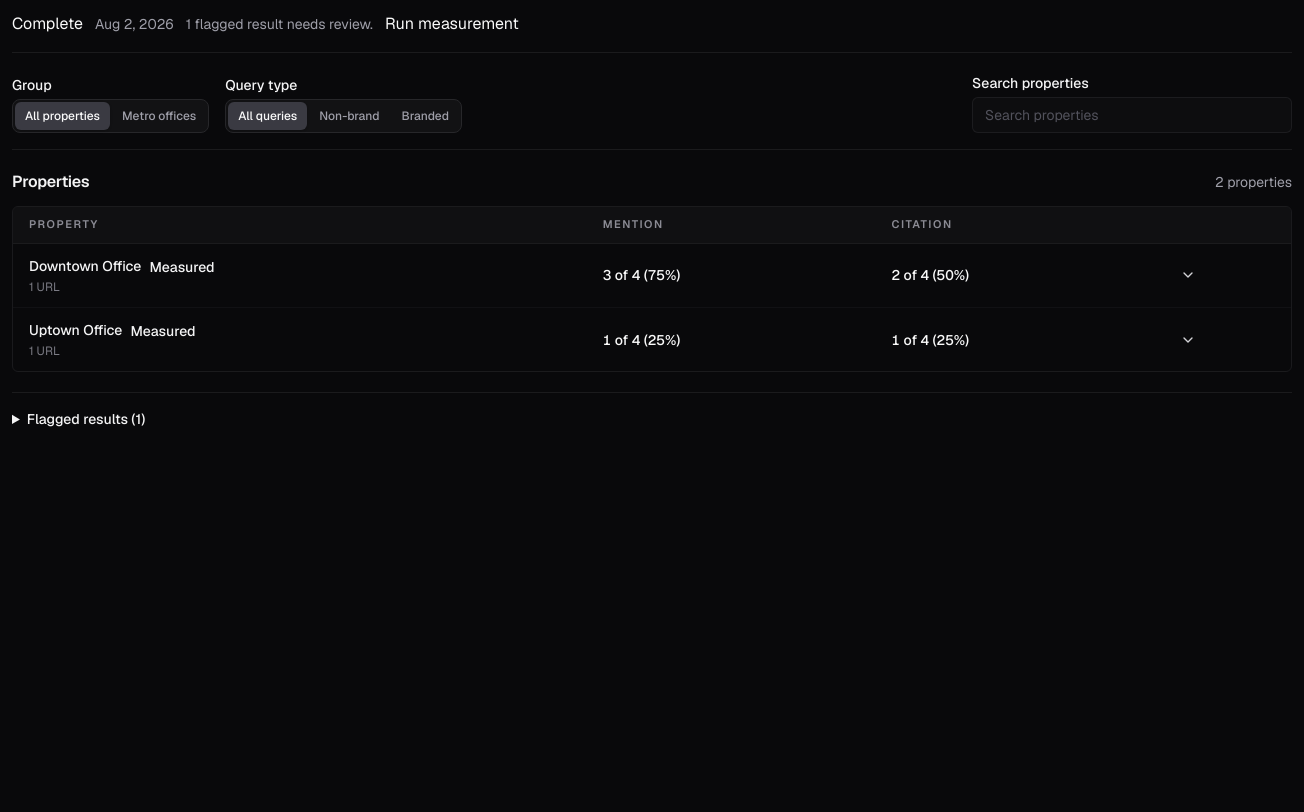
Scenario: AdvancedMeasurementOverview › shows competitor share of voice only for a selected non-brand group
The image size is (1304, 812).
Expected: the text "Query type" is shown, left=225, top=76, right=297, bottom=94
Expected: the text "Brand share of voice" is not shown
Click the radio button labelled "Metro offices": (159, 116) left=112, top=102, right=206, bottom=130
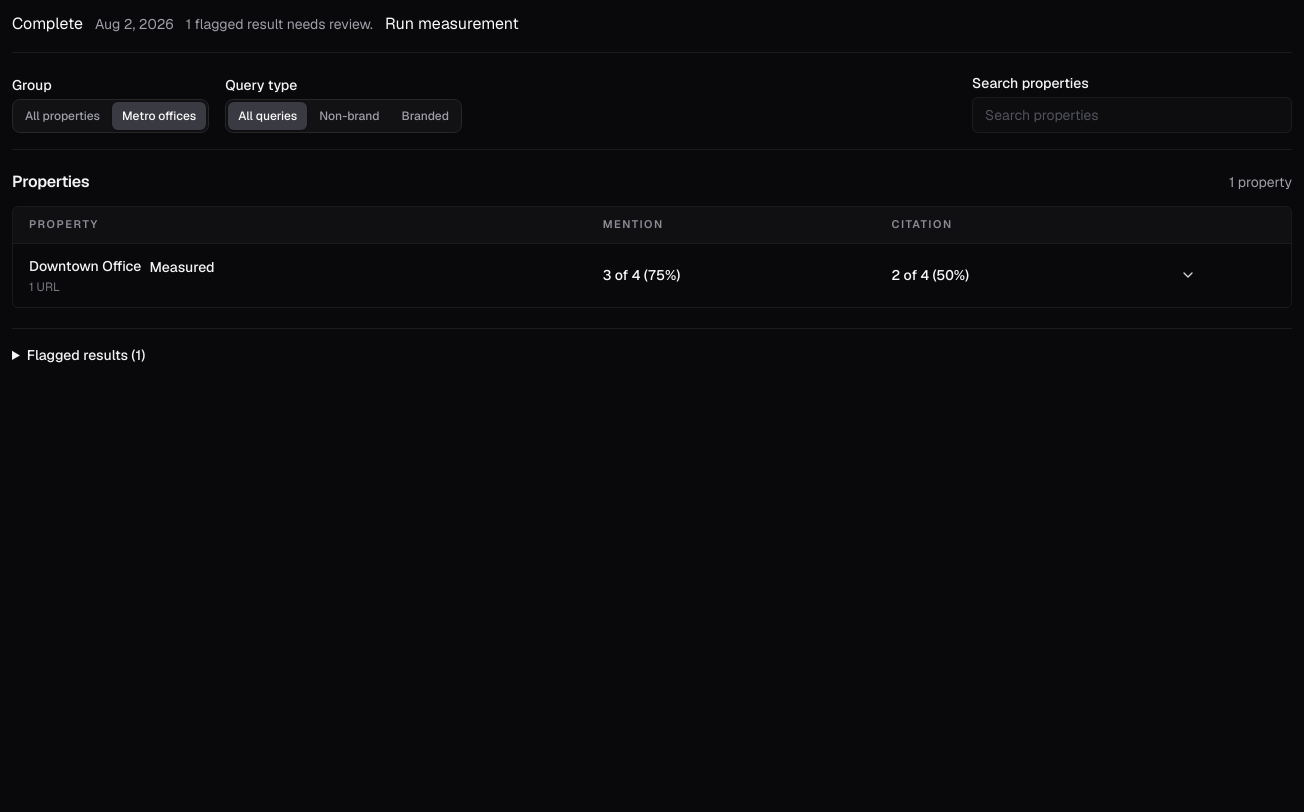
Expected: the text "Brand share of voice" is not shown
Click the radio button labelled "Non-brand": (349, 116) left=309, top=102, right=390, bottom=130
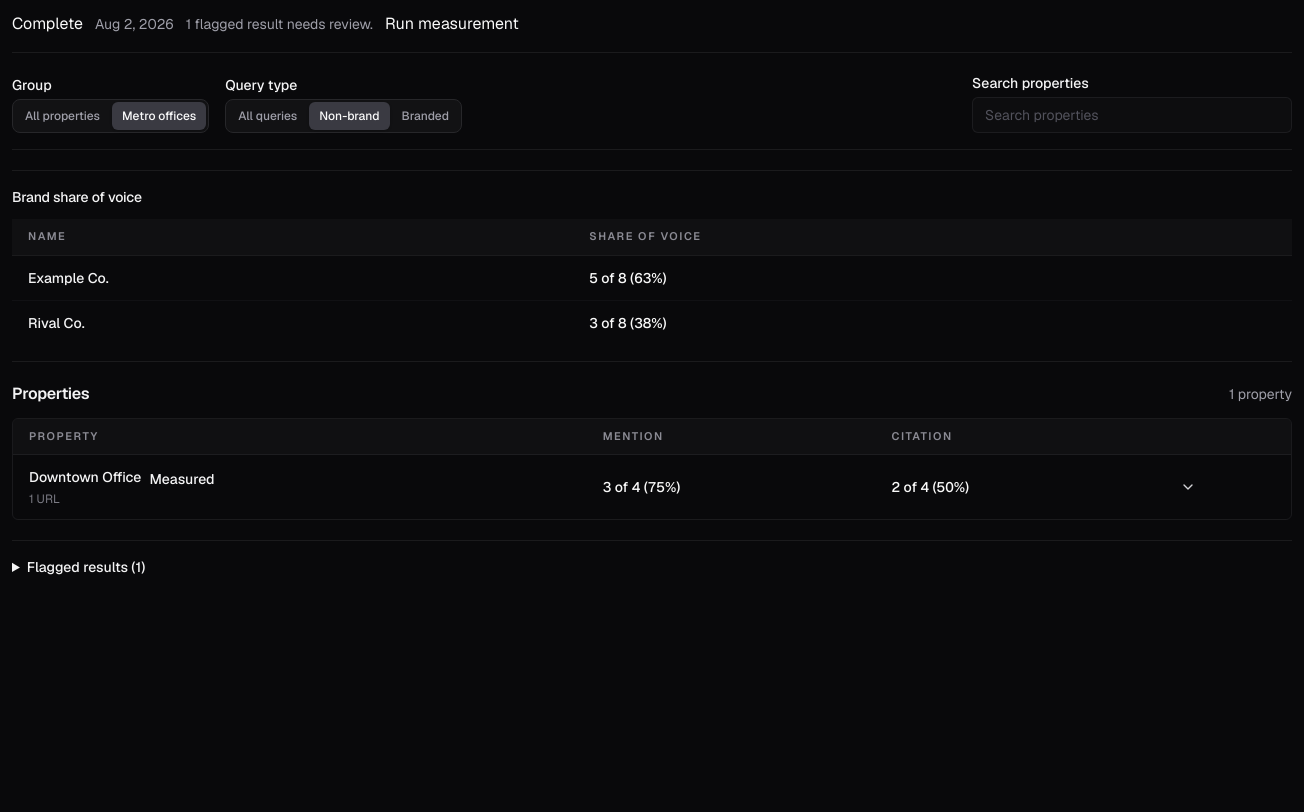
Expected: the heading "Brand share of voice" is shown, left=12, top=188, right=142, bottom=206
Expected: the text "Example Co." is shown, left=12, top=255, right=573, bottom=300
Expected: the text "Rival Co." is shown, left=12, top=300, right=573, bottom=345
Click the radio button labelled "Branded": (425, 116) left=392, top=102, right=459, bottom=130
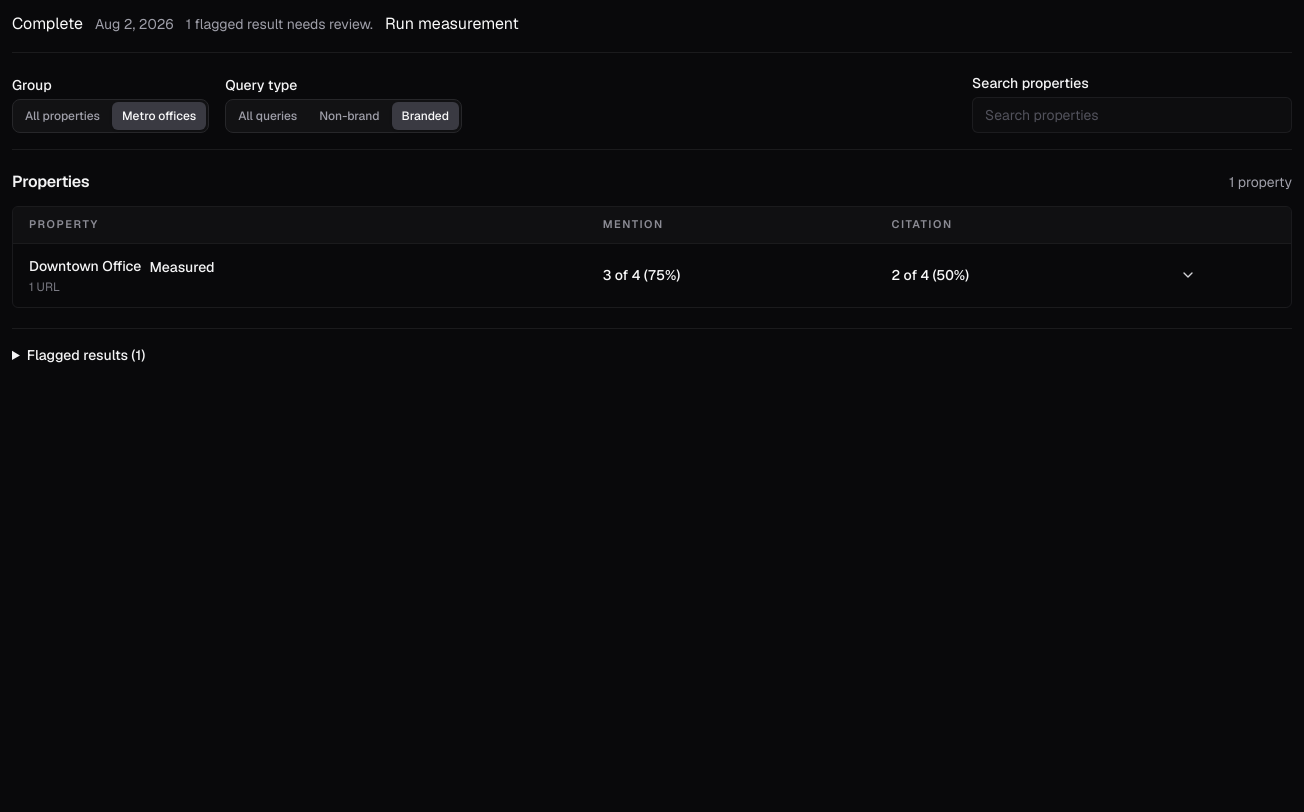
Expected: the heading "Brand share of voice" is gone
